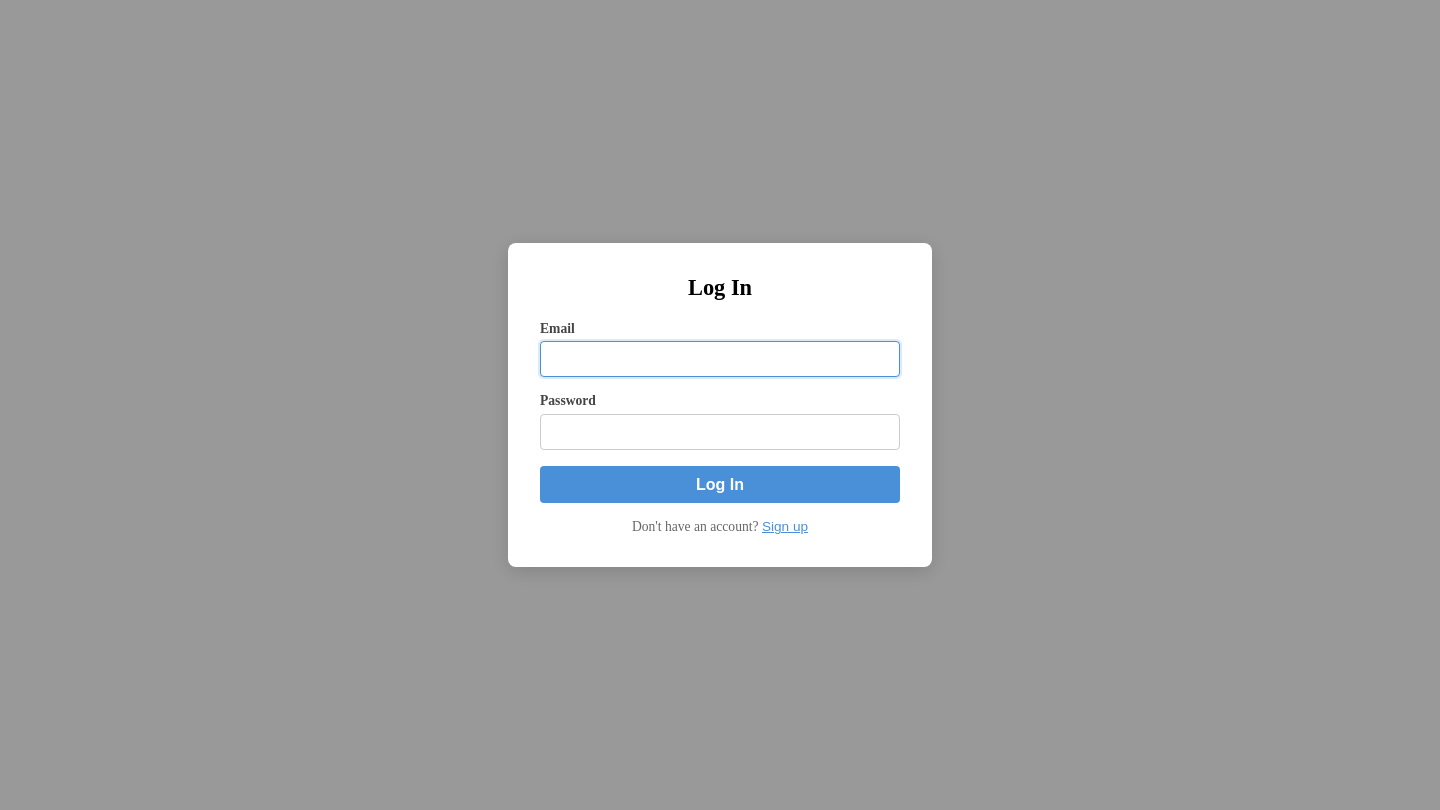
Test case: AuthForm › shows error on login failure
Expected: the heading "Log In" is shown, x1=688 y1=275 x2=752 y2=300
In the field labelled "Email": (720, 359) x1=540 y1=341 x2=900 y2=377, type "a@b.com"
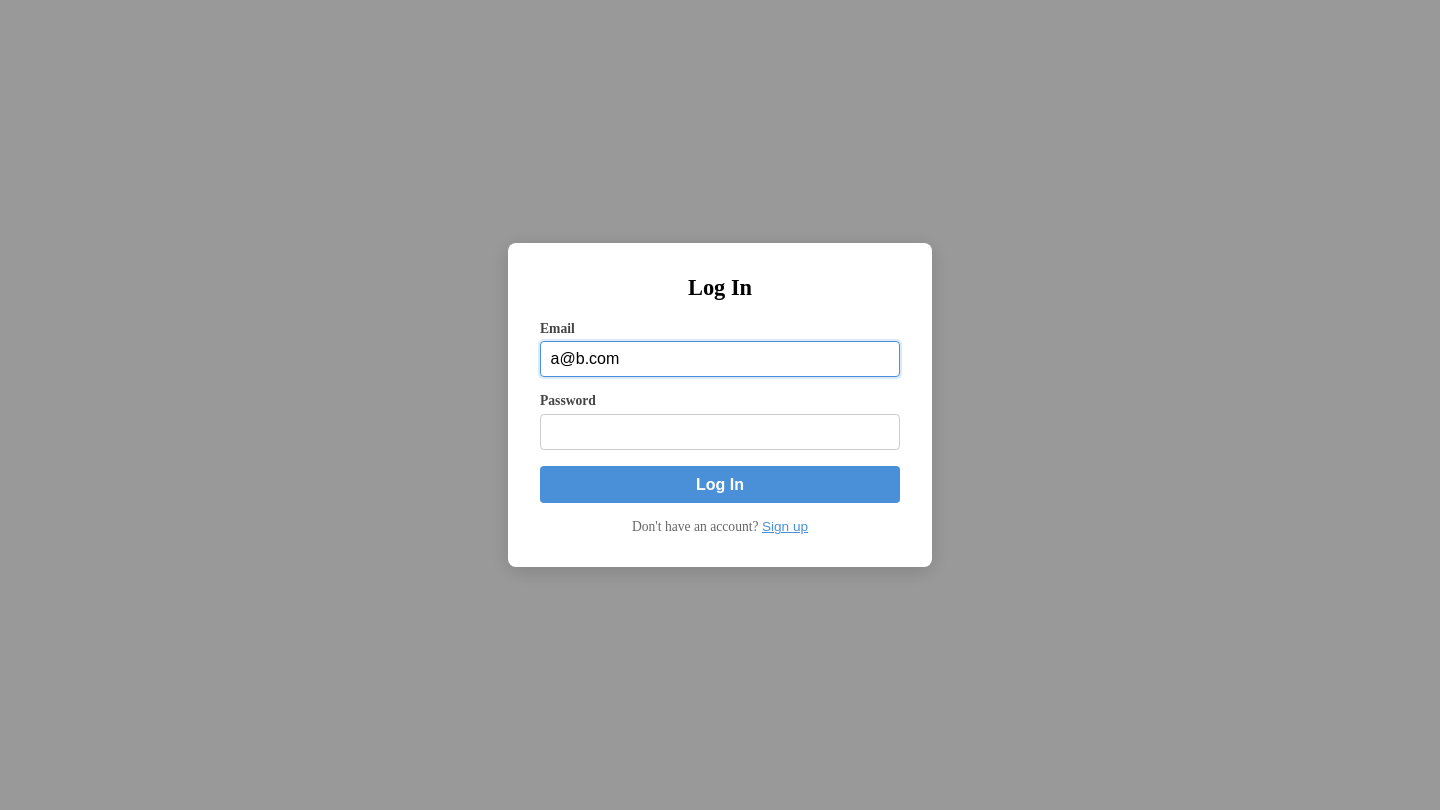
In the password field labelled "Password": (720, 432) x1=540 y1=414 x2=900 y2=450, type "wrongpassword"
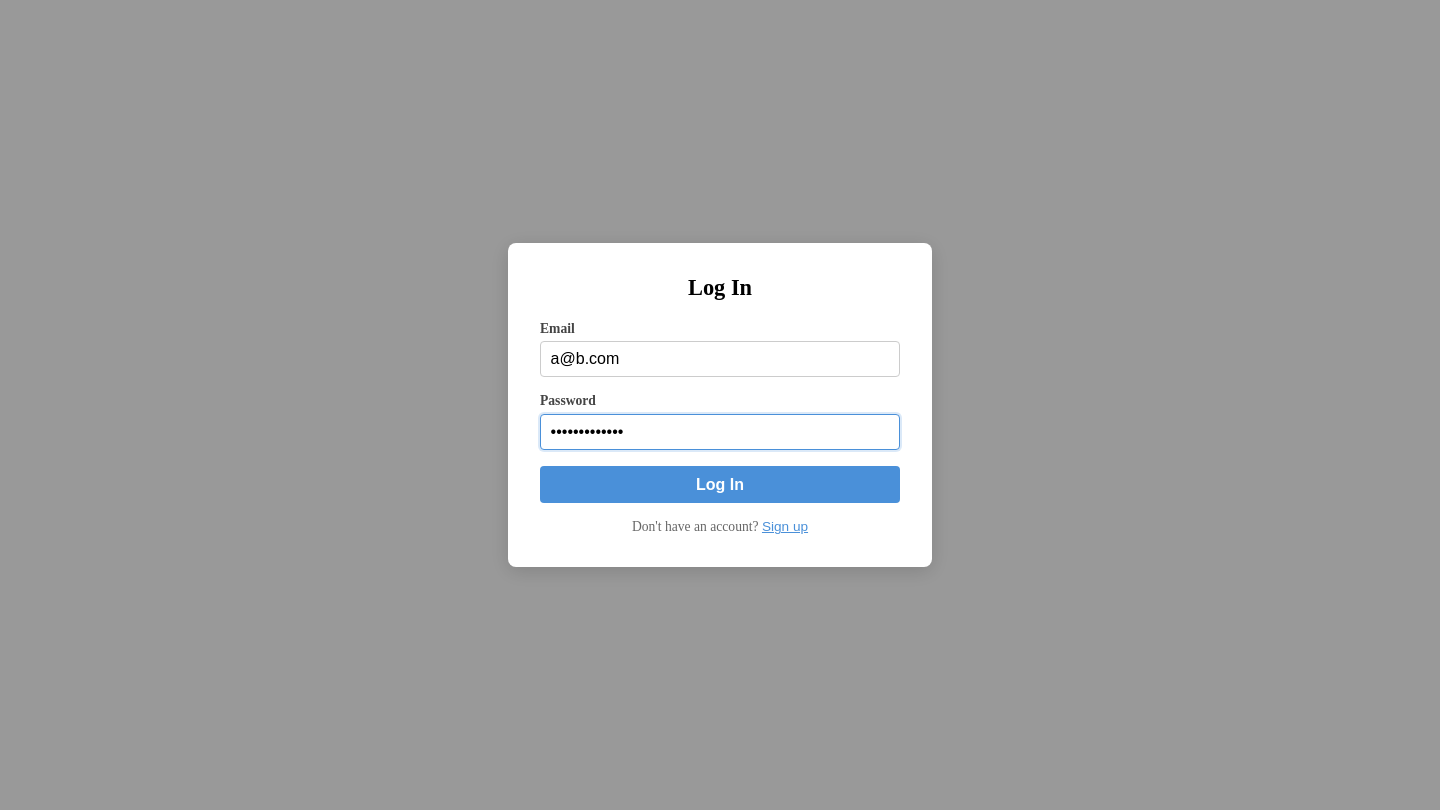
Click the button "Log In": (720, 485) x1=540 y1=466 x2=900 y2=503
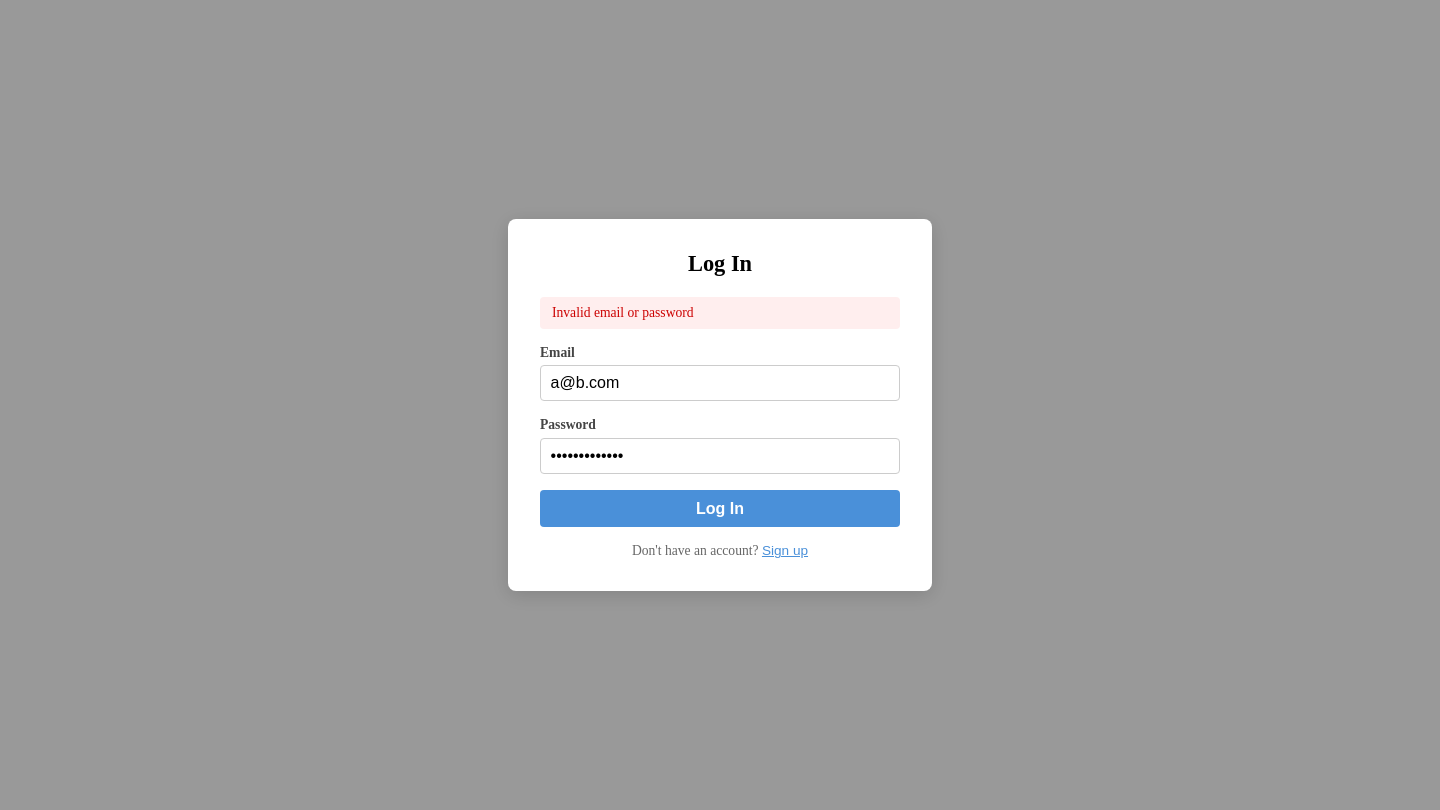
Expected: the message reads "Invalid email or password", x1=552 y1=305 x2=694 y2=320
